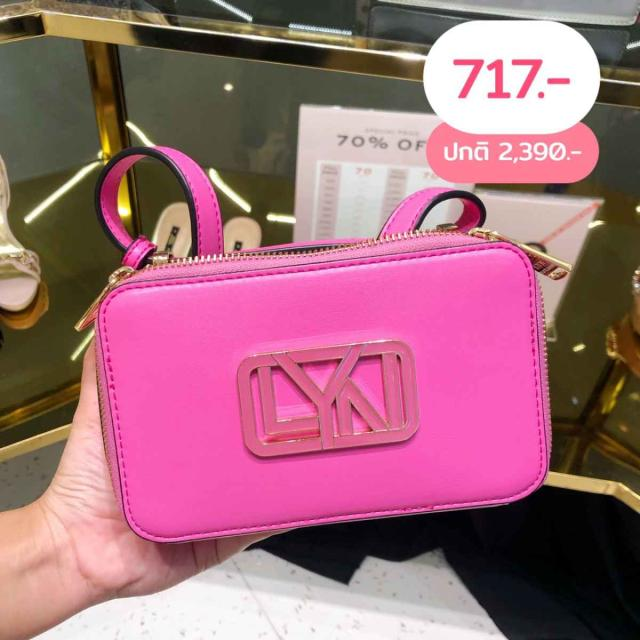handbag: (58, 193, 573, 553)
